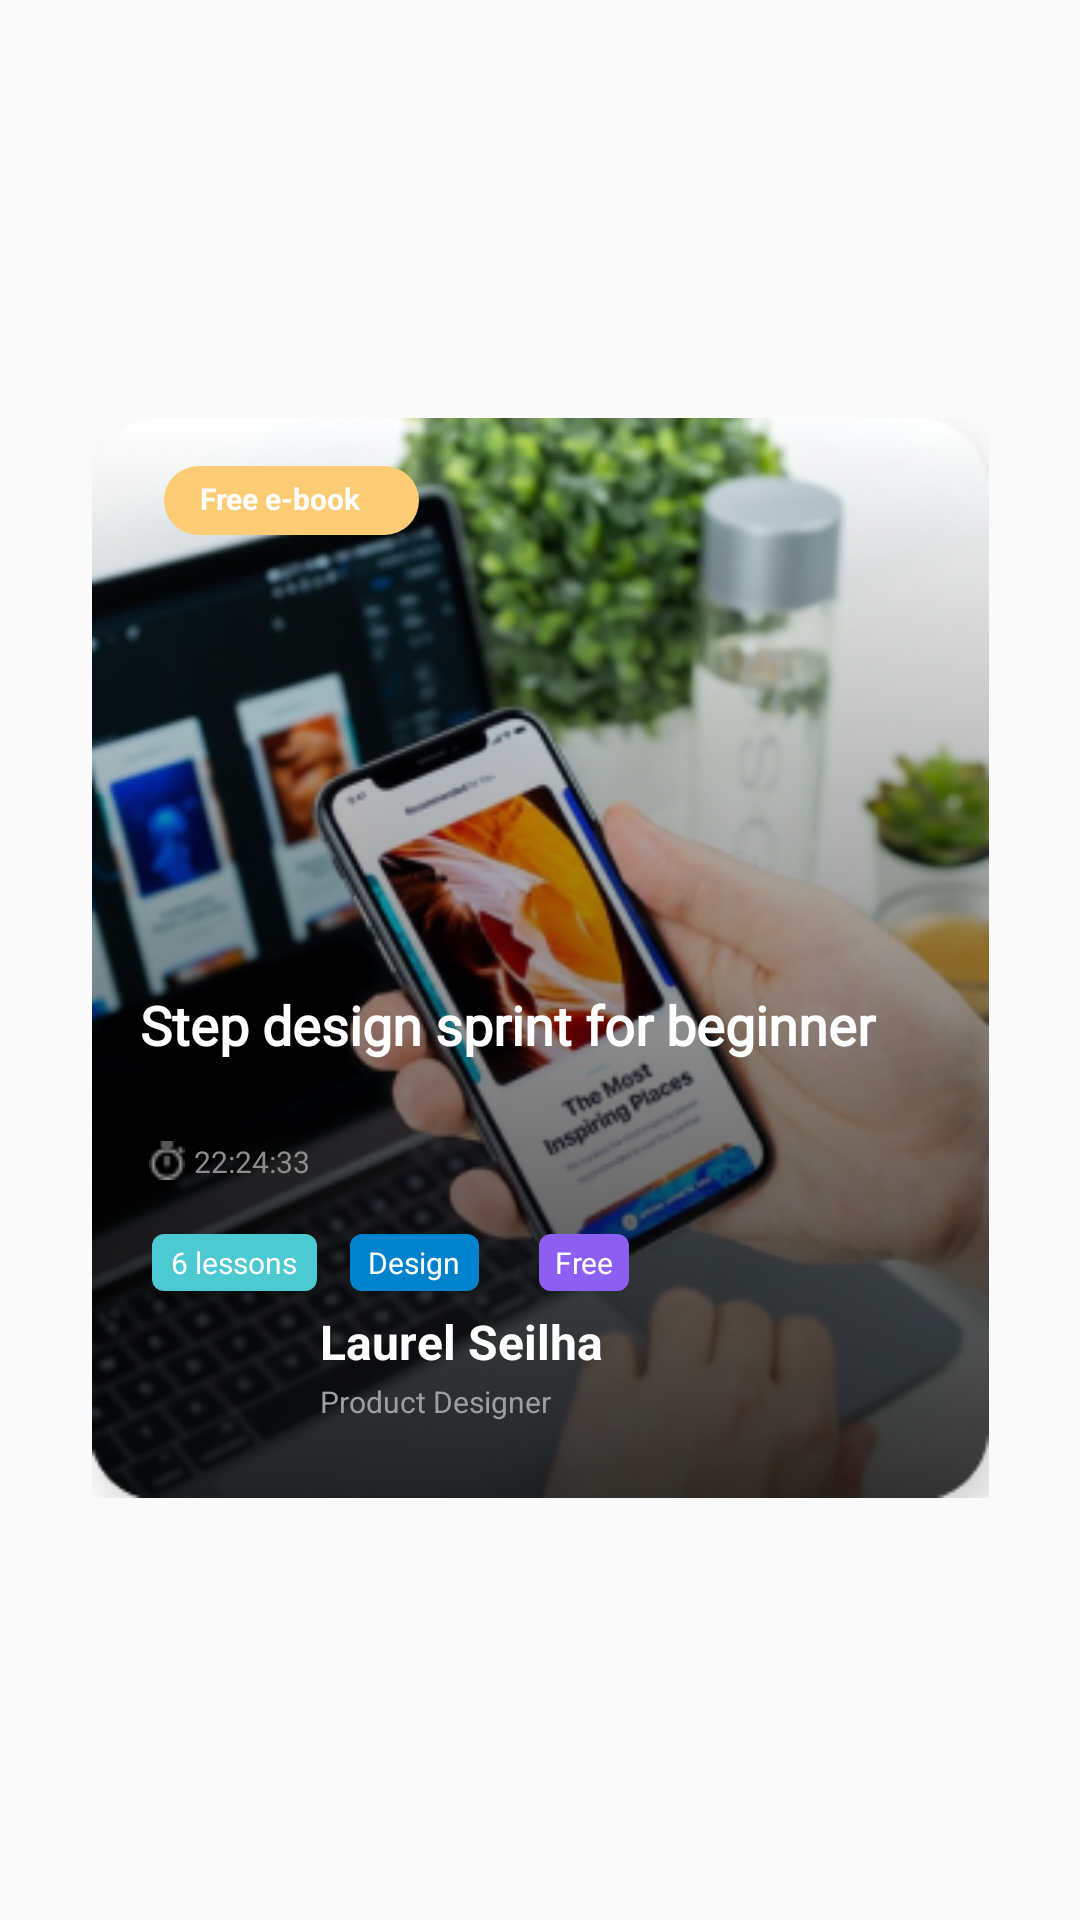

Icon click points for this 1080×1920 phone screenshot, format (x,y):
stopwatch: (167,1160)
